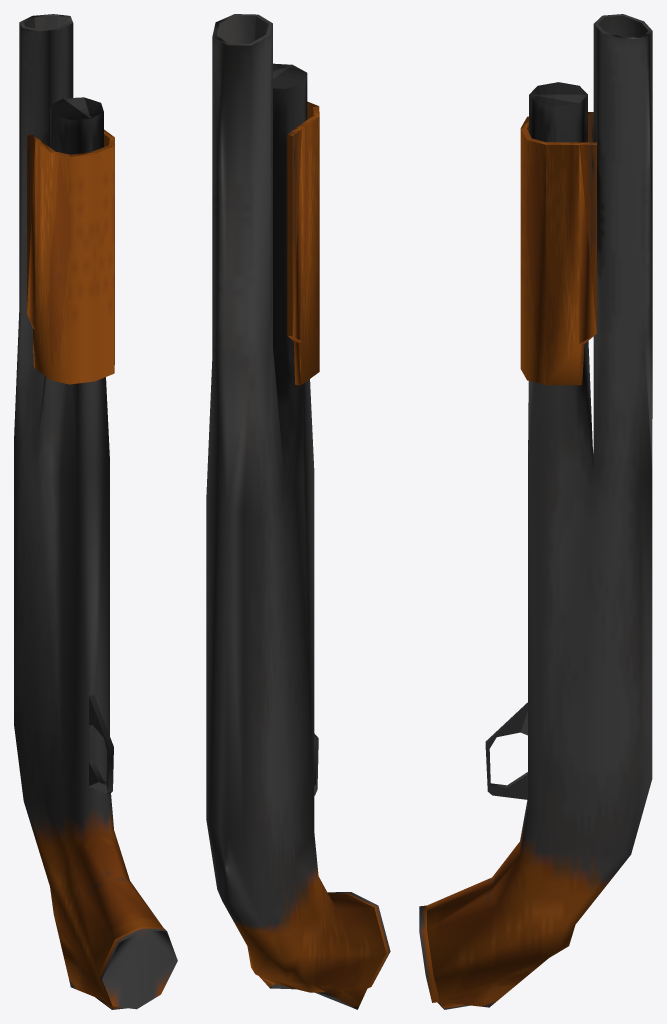
Rendered from RemingtonM870SawnStockless.fbx.
3 views of the same model, side by side, from view 1: azimuth 30°, elevation 25°; view 2: azimuth 150°, elevation 25°; view 3: azimuth 270°, elevation 25° (orthographic). The views are drawn at different scales.
Parts seen in each view (by area): view 1: node_ed0c22df_d6d4_44c1_8306_35fe6cc98b0f_mesh0; view 2: node_ed0c22df_d6d4_44c1_8306_35fe6cc98b0f_mesh0; view 3: node_ed0c22df_d6d4_44c1_8306_35fe6cc98b0f_mesh0.
Part boxes in pixels (x1,y1,x2,y2): node_ed0c22df_d6d4_44c1_8306_35fe6cc98b0f_mesh0: [14, 14, 177, 1009]; node_ed0c22df_d6d4_44c1_8306_35fe6cc98b0f_mesh0: [206, 14, 390, 1009]; node_ed0c22df_d6d4_44c1_8306_35fe6cc98b0f_mesh0: [419, 14, 652, 1009].
Bounding box in the file's own units: 0.0308 × 0.3499 × 0.0758.
